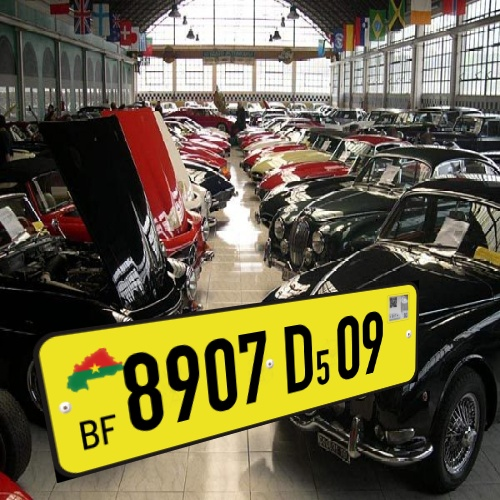plate: (23, 276, 449, 485)
